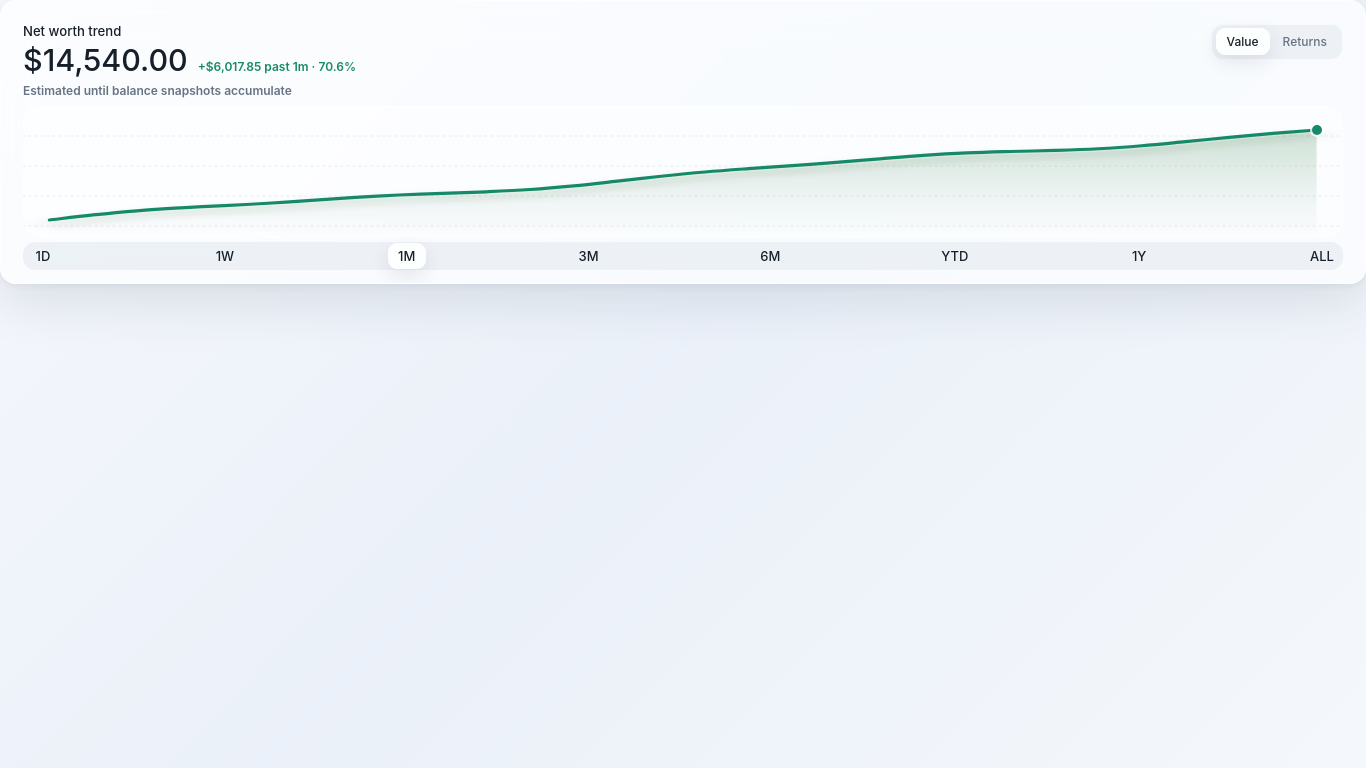
DashboardView › loads real net worth history when switching ranges
The image size is (1366, 768).
Step 1. Click the button "1Y" → click(1139, 256), box [1120,243,1158,269]
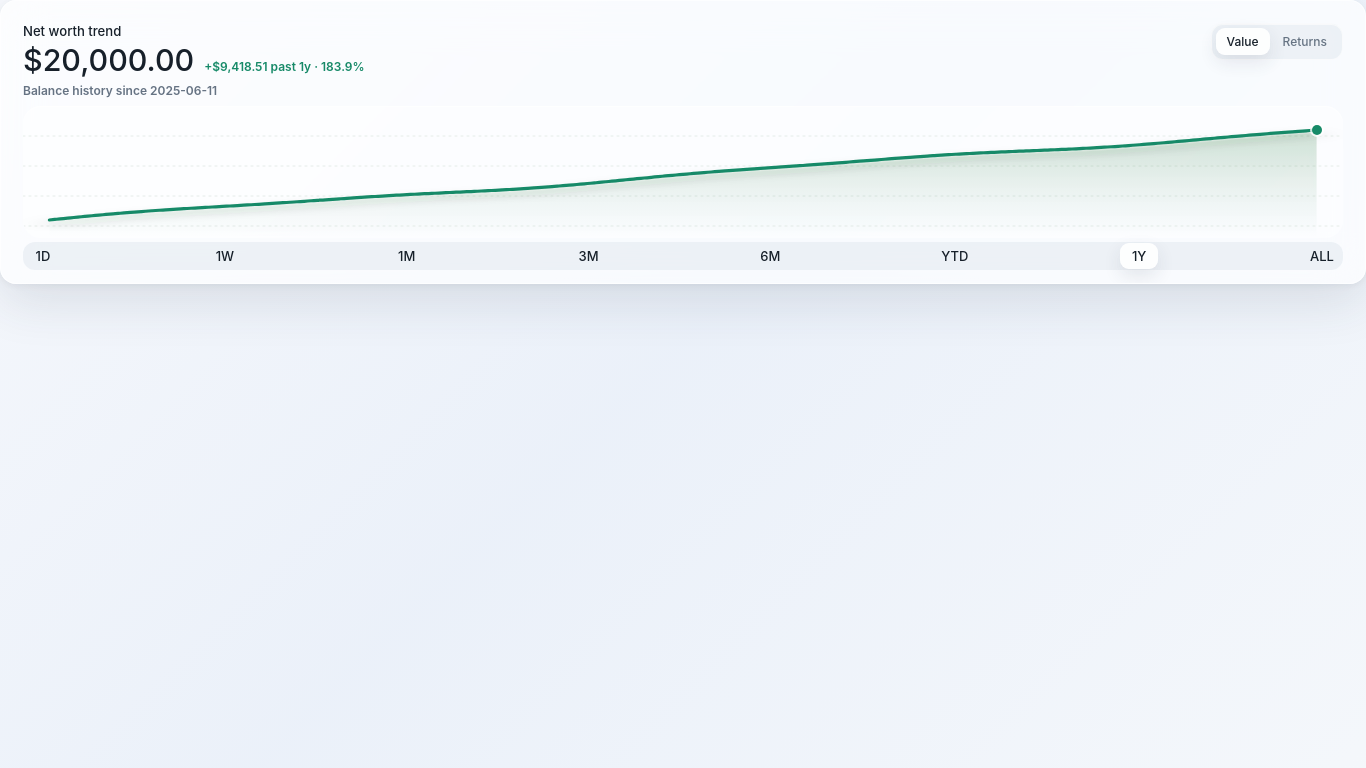
Result: the text "Balance history since 2025-06-11" is shown at [23,83,217,98]
